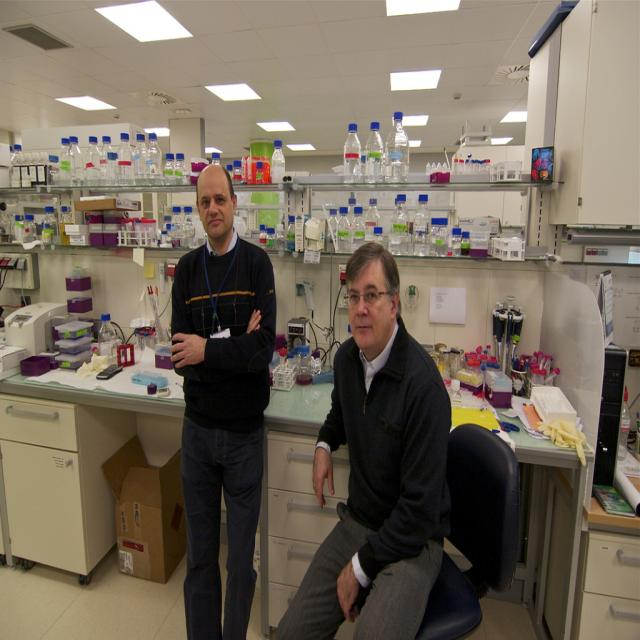Box: (100, 432, 187, 584), (75, 197, 141, 211)
